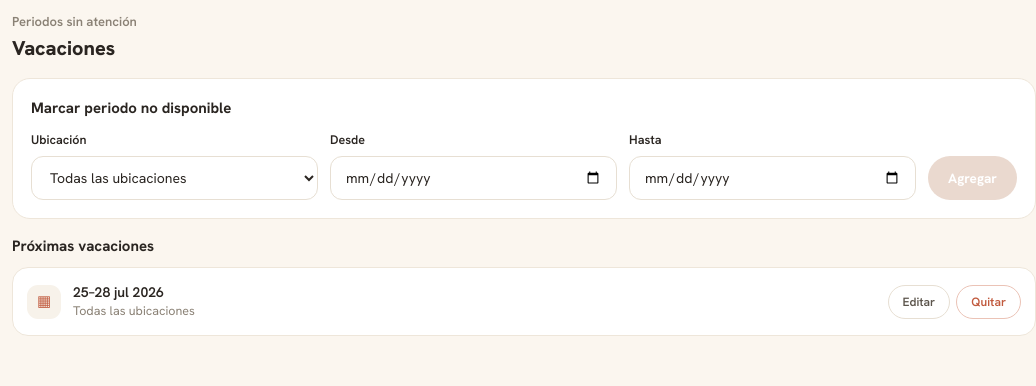
Test case: VacationEditor › closes the edit form when Cancelar edición is clicked
Click the button "Editar". click: x=919, y=302
box: top-left (888, 285), bottom-right (950, 319)
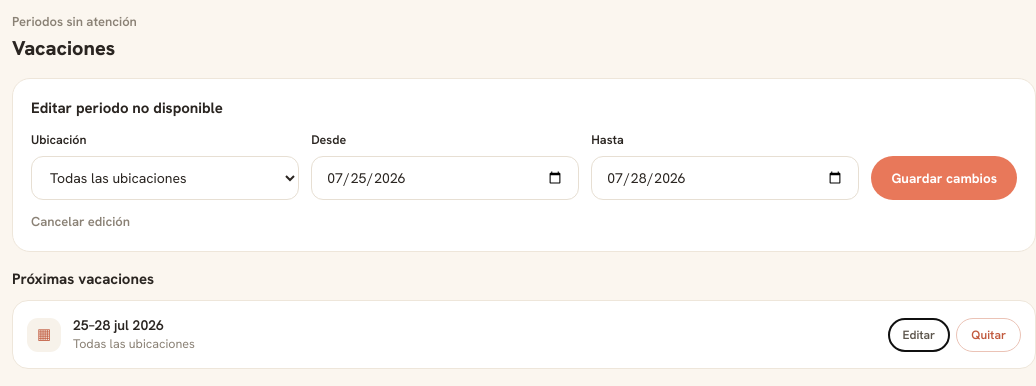
Click the button "Cancelar edición". click: x=81, y=222
box: top-left (31, 212), bottom-right (130, 231)
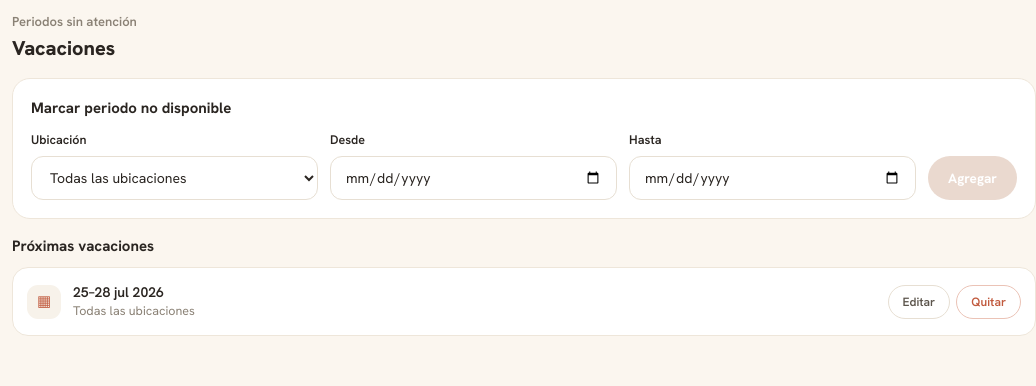
Check: the text "Marcar periodo no disponible" is shown, box top-left (31, 98), bottom-right (231, 118)
